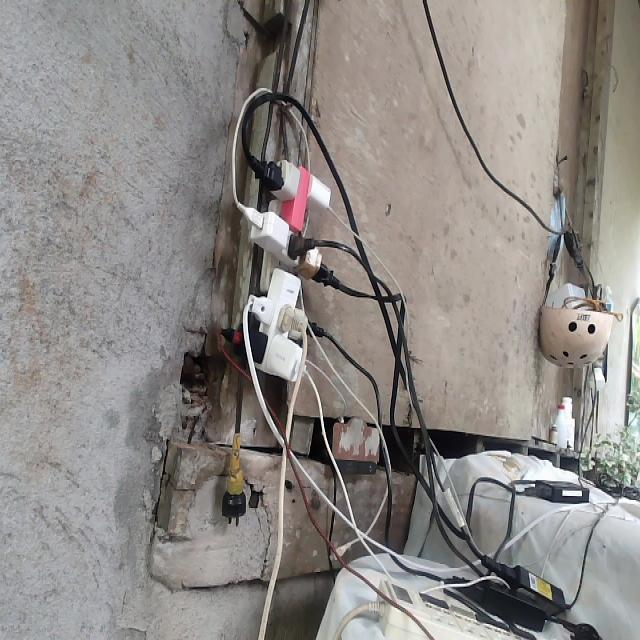-: (228, 159, 331, 381)
